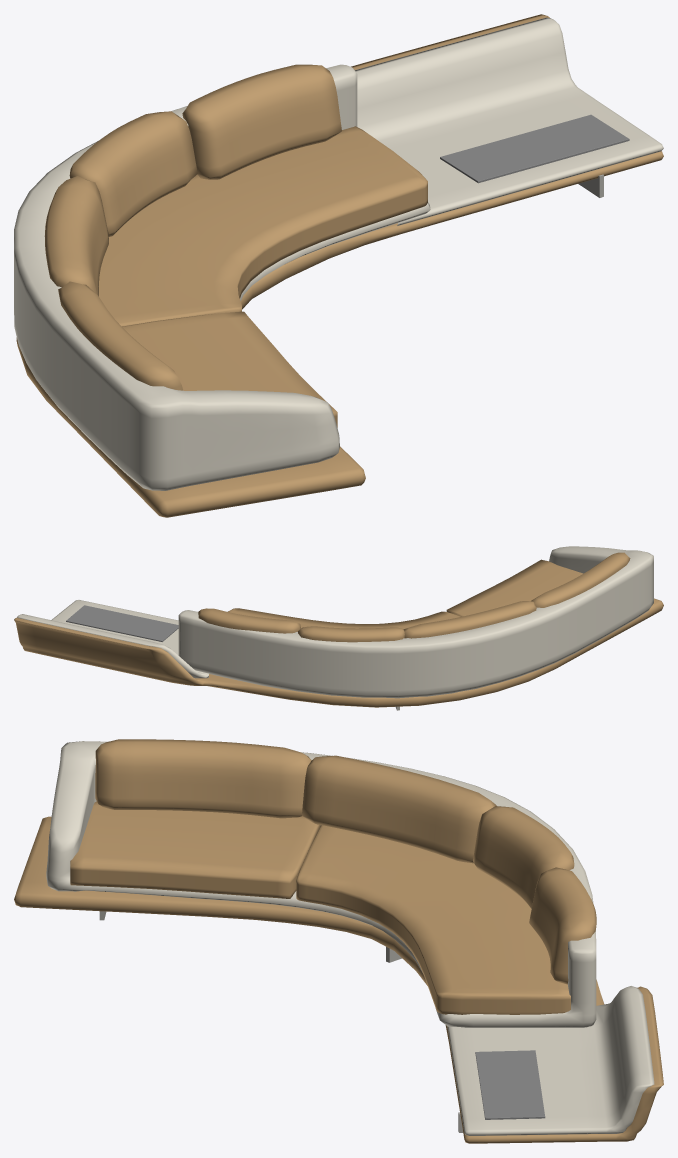
Rendered from Big_Sofa.fbx.
The picture shows the model from 3 angles, top to bottom: view 1: azimuth 30°, elevation 25°; view 2: azimuth 150°, elevation 25°; view 3: azimuth 270°, elevation 25°; orthographic projection. The views are drawn at different scales.
Visible parts, largest first — view 1: Big_Sofa; view 2: Big_Sofa; view 3: Big_Sofa.
Boxes of the visible parts, bbox=[...] form: Big_Sofa: bbox=[14, 14, 663, 517]; Big_Sofa: bbox=[14, 546, 663, 710]; Big_Sofa: bbox=[14, 739, 663, 1143].
Bounding box in the file's own units: 467 × 79.86 × 406.
